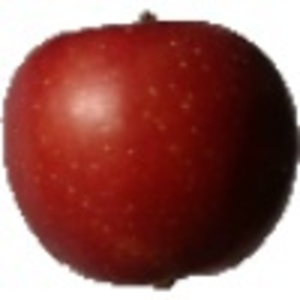maçã braeburn: (1, 7, 299, 288)
